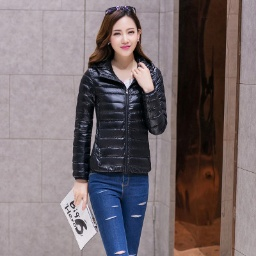face: (90, 6, 147, 70)
